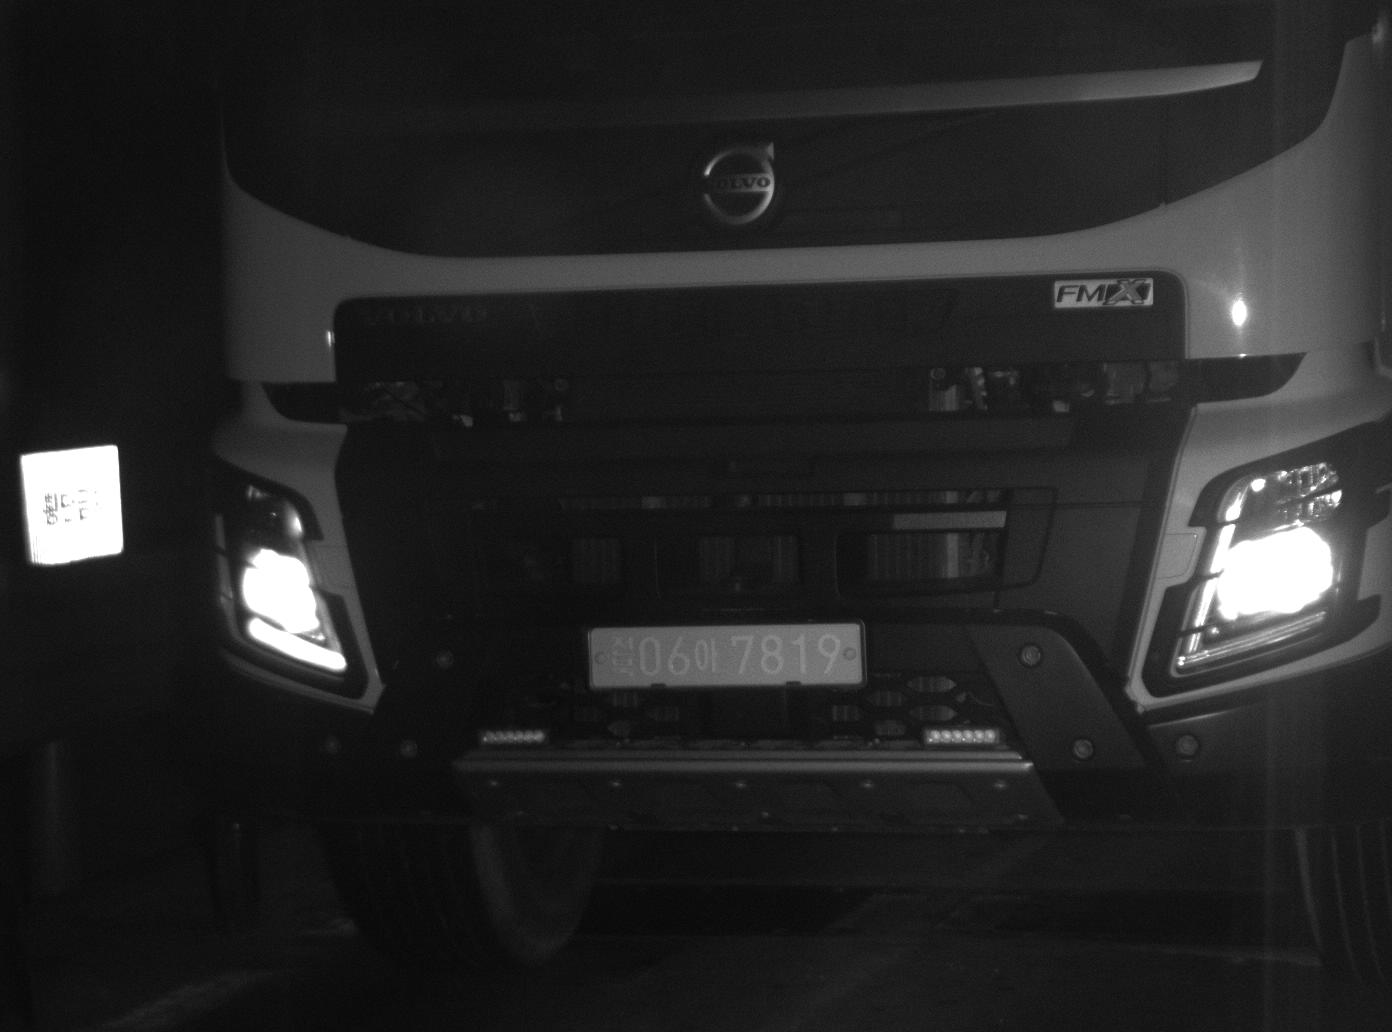car: (205, 7, 1392, 961)
plate: (581, 619, 865, 688)
